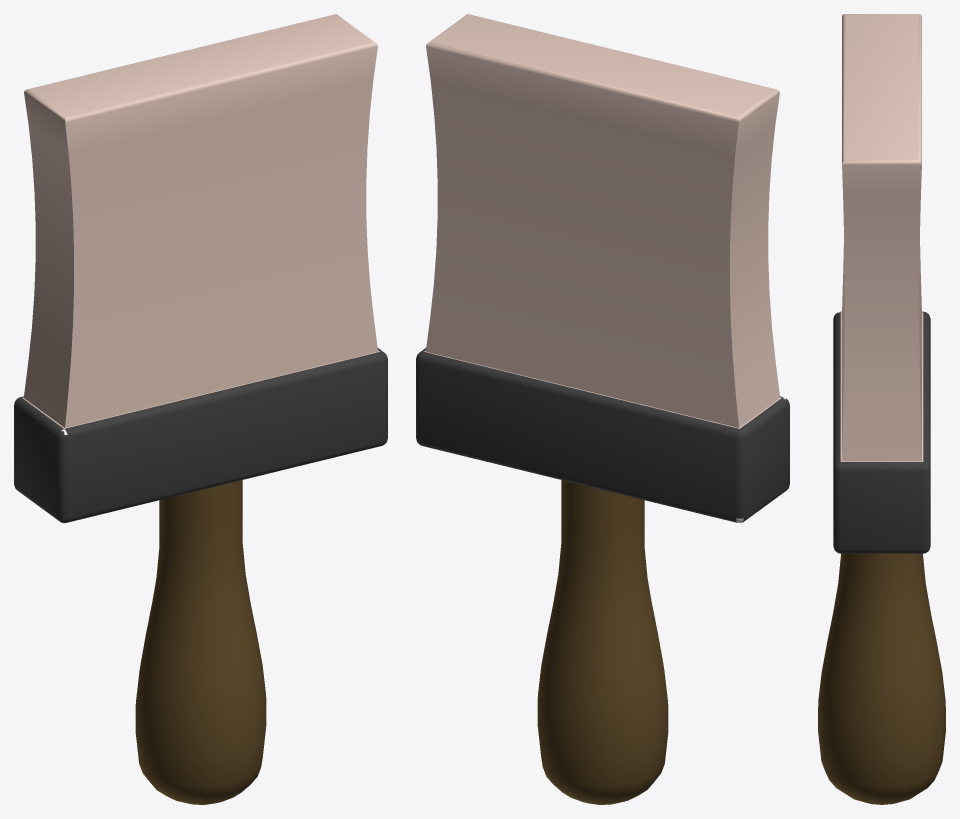
Rendered from paintbrush.glb.
3 views of the same model, side by side, from view 1: azimuth 30°, elevation 25°; view 2: azimuth 150°, elevation 25°; view 3: azimuth 270°, elevation 25° (orthographic). The views are drawn at different scales.
Visible parts, largest first — view 1: CartoonPaintbrush_OBJ; view 2: CartoonPaintbrush_OBJ; view 3: CartoonPaintbrush_OBJ.
Part boxes in pixels (bbox=[...]): CartoonPaintbrush_OBJ: bbox=[14, 14, 387, 804]; CartoonPaintbrush_OBJ: bbox=[416, 14, 789, 804]; CartoonPaintbrush_OBJ: bbox=[818, 14, 945, 804].
Size of the model in its own units: 1.96 by 4.18 by 0.6801.
